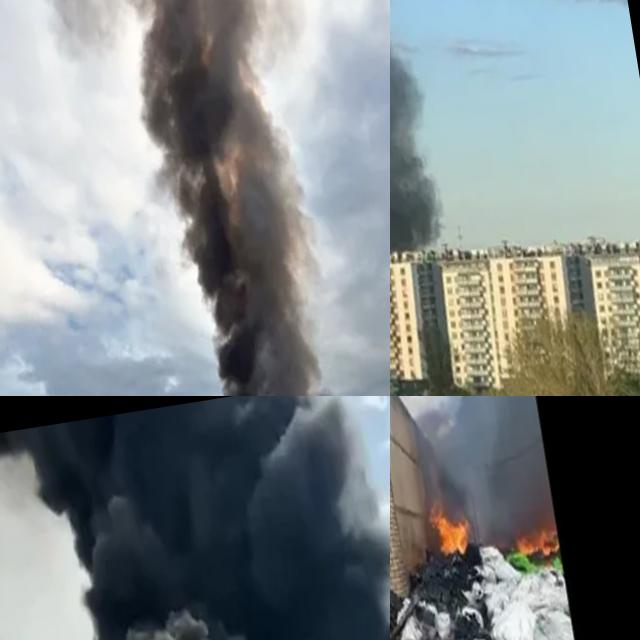smoke: (100, 0, 349, 396), (0, 396, 390, 640), (394, 396, 554, 555)
